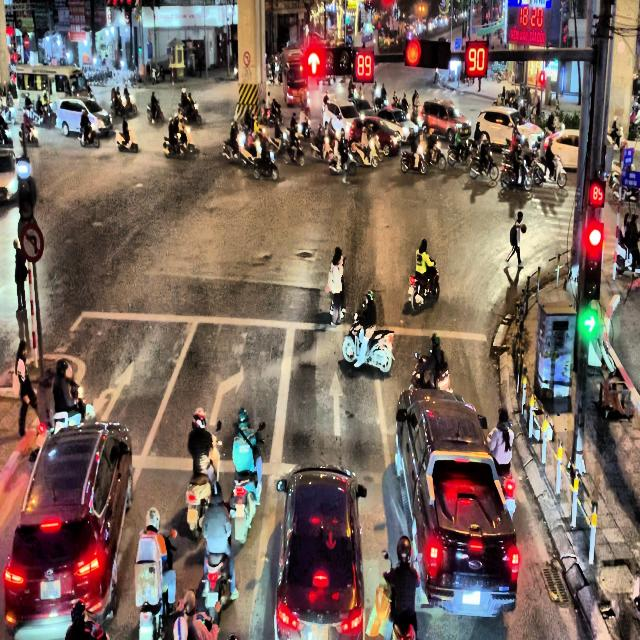lisence_plate: (588, 177, 606, 208), (39, 577, 62, 601), (310, 622, 329, 639), (461, 590, 481, 606)
